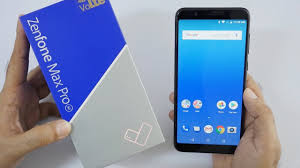asus: (172, 5, 252, 155)
